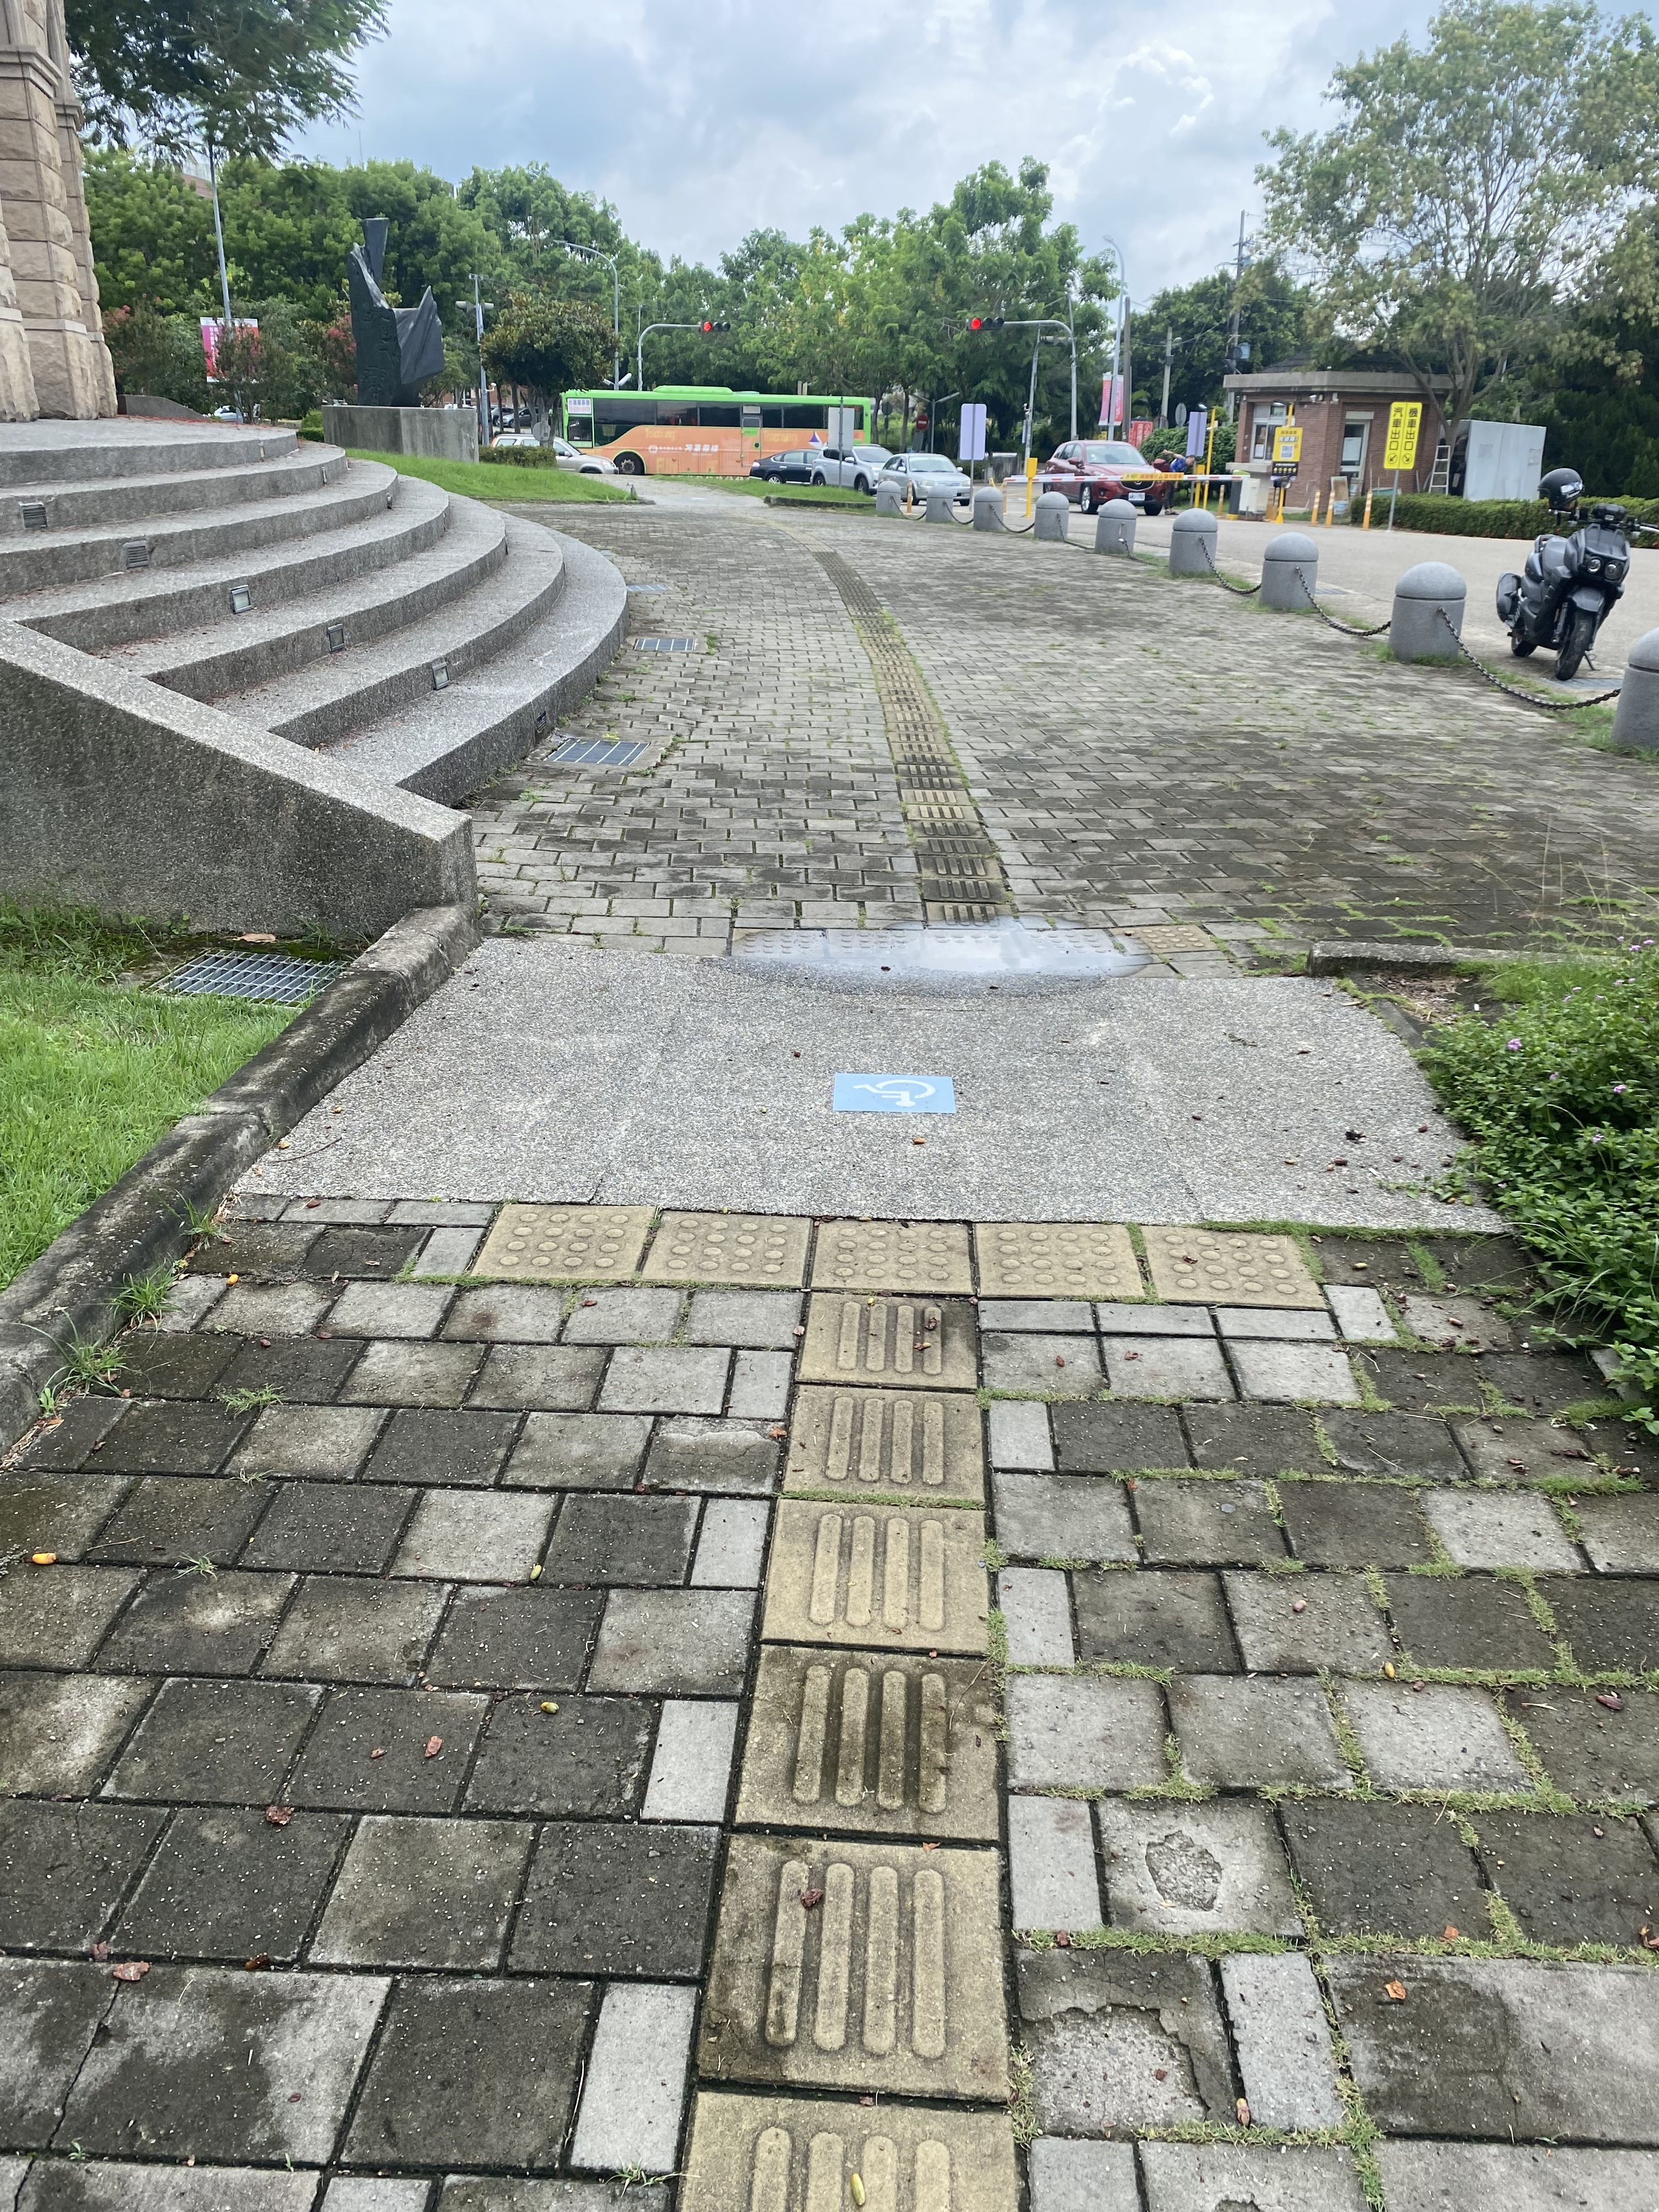0: (3, 1024, 1659, 2212)
sidewalk: (279, 469, 1659, 1294)
